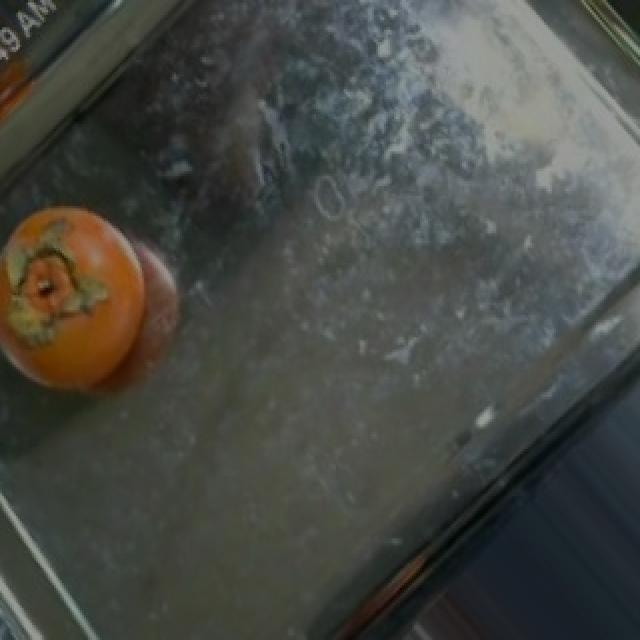Fruit: (0, 178, 172, 422)
